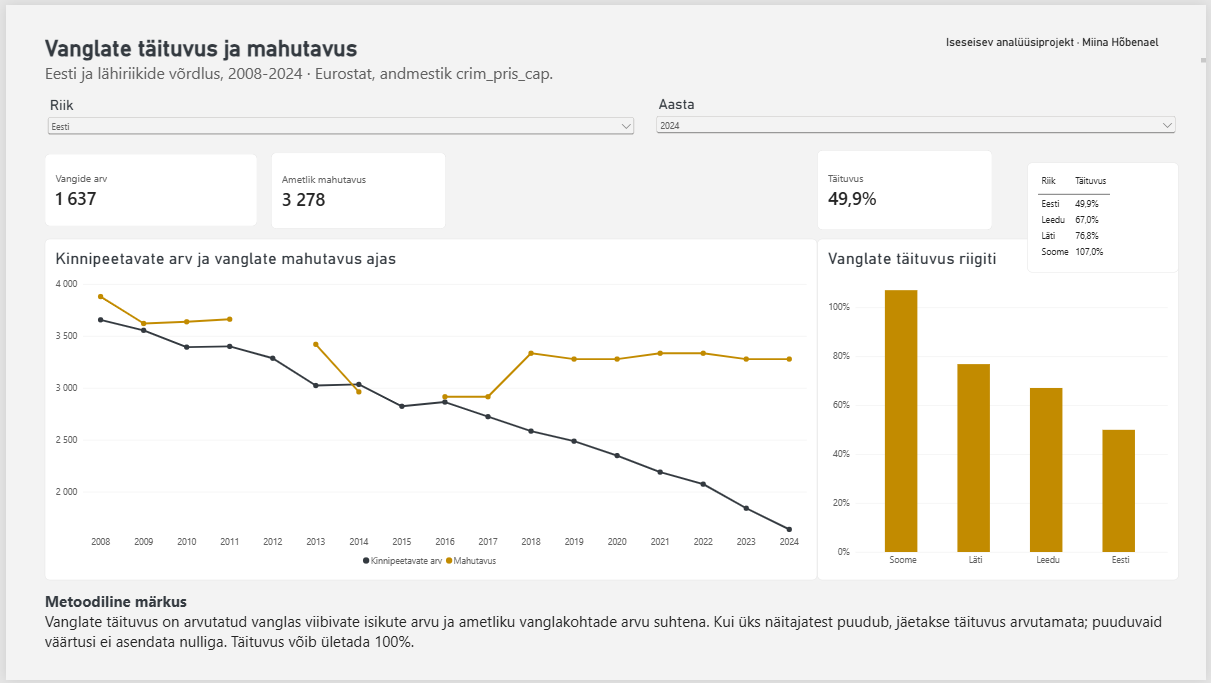

The page's visual inventory and layout, read from the dashboard file:
{"tool":"powerbi","page":{"name":"Lk 1","canvas":[1920,1080],"ordinal":0},"visuals":[{"type":"textbox","title":"Vanglate täituvus ja mahutavus","box":[62,48,1678,220],"z":0},{"type":"textbox","box":[10,0,280,280],"z":1000},{"type":"textbox","box":[62,938,1814,102],"z":2000},{"type":"slicer","fields":{"Values":["Vanglad.Riik"]},"box":[62,146,948,82],"z":3000},{"type":"slicer","fields":{"Values":["Vanglad.Aasta"]},"box":[1036,144,840,82],"z":4000},{"type":"cardVisual","fields":{"Data":["Vanglad.Vangide arv (KPI)"]},"box":[62,238,340,116],"z":5000},{"type":"cardVisual","fields":{"Data":["Vanglad.Ametlik mahutavus (KPI)"]},"box":[424,236,280,122],"z":6000},{"type":"cardVisual","fields":{"Data":["Vanglad.Täituvuse määr (KPI)"]},"box":[1298,232,280,128],"z":7000},{"type":"lineChart","title":"Kinnipeetavate arv ja vanglate mahutavus ajas","fields":{"Category":["Vanglad.Aasta"],"Y":["Sum(Vanglad.Vangide arv)","Sum(Vanglad.Mahutavus)"]},"box":[62,374,1236,546],"z":8000},{"type":"clusteredColumnChart","title":"Vanglate täituvus riigiti","fields":{"Category":["Vanglad.Riik"],"Y":["Vanglad.Täituvuse määr (KPI)"]},"box":[1298,374,578,546],"z":9000},{"type":"tableEx","fields":{"Values":["Vanglad.Riik","Vanglad.Täituvuse selgitus"]},"box":[1634,252,242,176],"z":10000},{"type":"textbox","title":"Iseseisev analüüsiprojekt · Miina Hõbenael","box":[1504,48,416,44],"z":11000}]}

Visuals, with their boxes in screenshot pixels (x1, y1, x2, y2), scaled from the page's 1920x1080 canvas onto the 1211x683 screenshot:
"Vanglate täituvus ja mahutavus" textbox: BBox(39, 30, 1097, 169)
textbox: BBox(6, 0, 183, 177)
textbox: BBox(39, 593, 1183, 658)
slicer - Vanglad.Riik: BBox(39, 92, 637, 144)
slicer - Vanglad.Aasta: BBox(653, 91, 1183, 143)
cardVisual - Vanglad.Vangide arv (KPI): BBox(39, 151, 254, 224)
cardVisual - Vanglad.Ametlik mahutavus (KPI): BBox(267, 149, 444, 226)
cardVisual - Vanglad.Täituvuse määr (KPI): BBox(819, 147, 995, 228)
"Kinnipeetavate arv ja vanglate mahutavus ajas" lineChart: BBox(39, 237, 819, 582)
"Vanglate täituvus riigiti" clusteredColumnChart: BBox(819, 237, 1183, 582)
tableEx - Vanglad.Riik x Vanglad.Täituvuse selgitus: BBox(1031, 159, 1183, 271)
"Iseseisev analüüsiprojekt · Miina Hõbenael" textbox: BBox(949, 30, 1210, 58)
